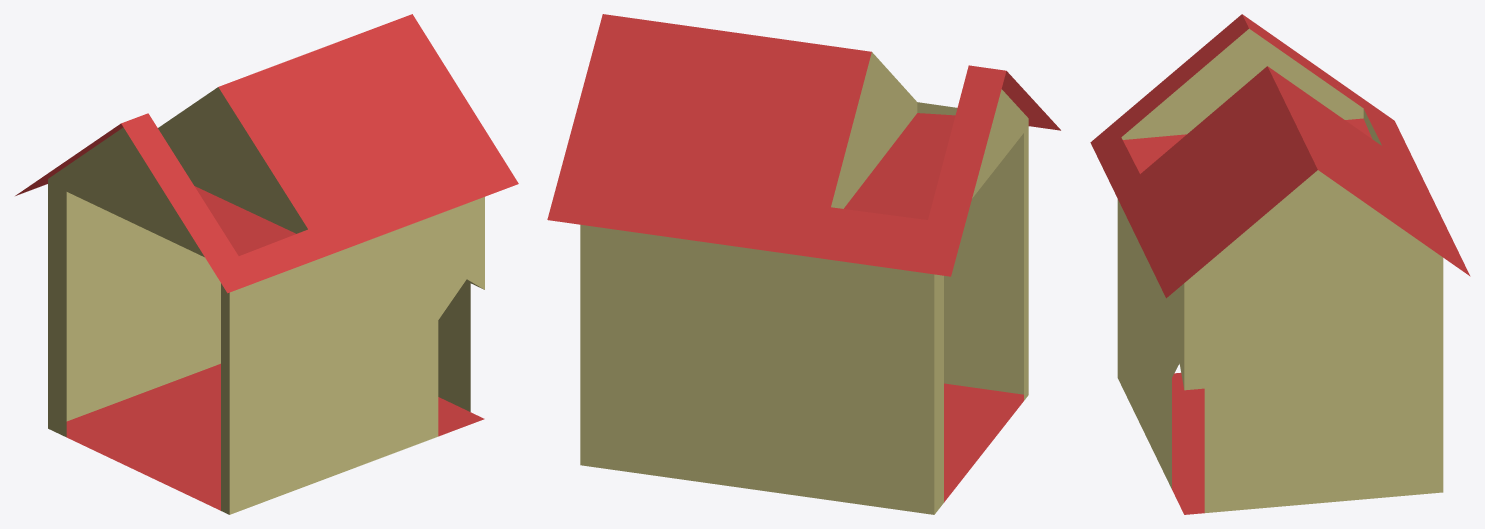
3 renders of one model, left to right at view 1: azimuth 30°, elevation 25°; view 2: azimuth 150°, elevation 25°; view 3: azimuth 270°, elevation 25°, orthographic. The views are drawn at different scales.
Bounding box in the file's own units: 18.57 × 16.36 × 16.3.
